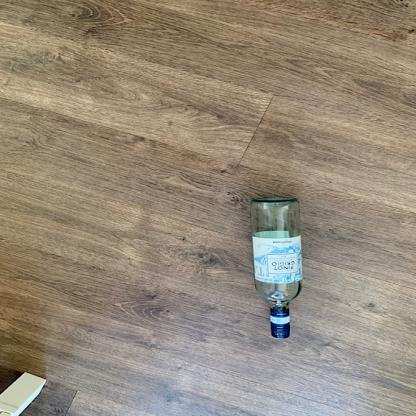trash: (248, 194, 302, 344)
